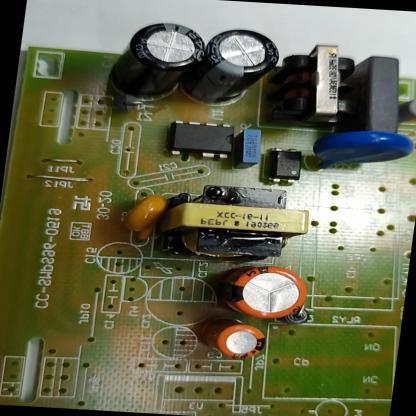Cap1: (205, 261, 317, 326)
Cap2: (197, 316, 273, 364)
Cap3: (182, 26, 291, 109)
Cap4: (106, 19, 210, 109)
MOSFET: (152, 122, 238, 165)
Mov: (306, 121, 415, 175)
Resistor: (390, 93, 416, 130)
Transformer: (140, 177, 326, 266), (258, 36, 366, 134)
